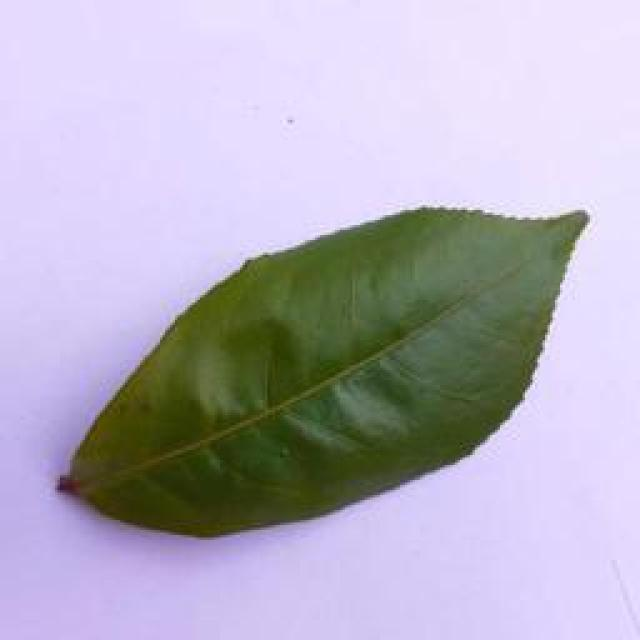Healthy: (48, 186, 599, 544)
